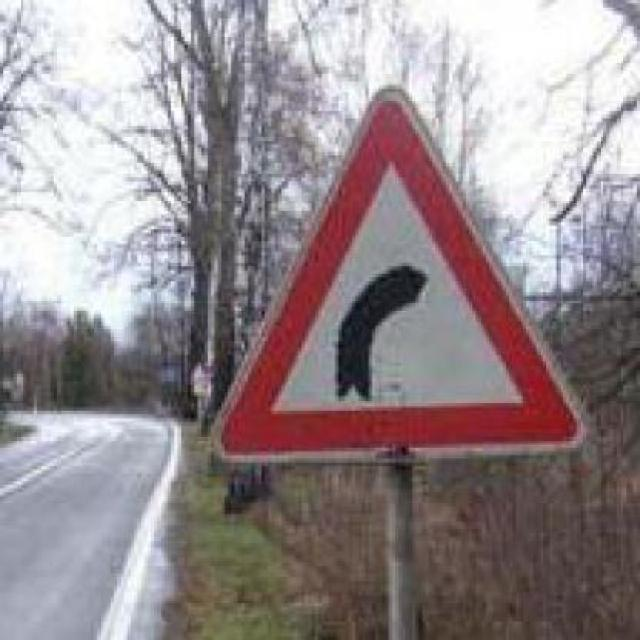warn_right_curve: (192, 84, 592, 471)
